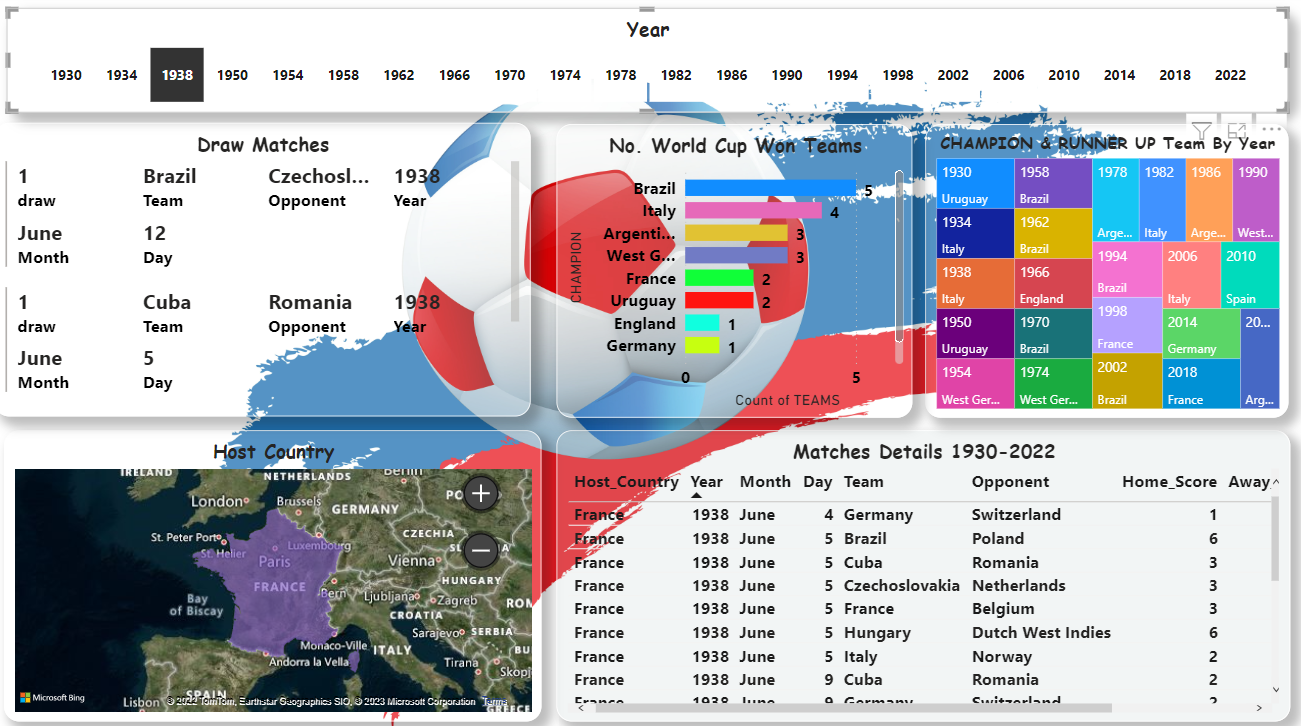

The page's visual inventory and layout, read from the dashboard file:
{"tool":"powerbi","page":{"name":"Page 1","canvas":[1280,720],"ordinal":0},"visuals":[{"type":"slicer","title":"Year","fields":{"Values":["Fifa 1930-2022.Year"]},"box":[12.2,13.4,1253,102.7],"z":0},{"type":"filledMap","title":"Host Country","fields":{"Category":["Fifa 1930-2022.country"]},"box":[9.8,426.6,525.6,284.8],"z":1000},{"type":"tableEx","title":"Matches Details 1930-2022","fields":{"Values":["Fifa 1930-2022.Country","Fifa 1930-2022.date.Variation.Date Hierarchy.Year","Fifa 1930-2022.date.Variation.Date Hierarchy.Month","Fifa 1930-2022.date.Variation.Date Hierarchy.Day","Fifa 1930-2022.team","Fifa 1930-2022.opponent","Fifa 1930-2022.Home_Score","Sum(Fifa 1930-2022.away_score)","Fifa 1930-2022.winning_team"]},"box":[550.1,426.6,717.6,284.8],"z":2000},{"type":"multiRowCard","title":"Draw Matches","fields":{"Values":["Fifa 1930-2022.draw","Fifa 1930-2022.Team","Fifa 1930-2022.Opponent","Fifa 1930-2022.Date.Variation.Date Hierarchy.Year","Fifa 1930-2022.Date.Variation.Date Hierarchy.Month","Fifa 1930-2022.Date.Variation.Date Hierarchy.Day"]},"box":[0,125.9,524.4,287.3],"z":3000},{"type":"treemap","title":"CHAMPION & RUNNER UP Team By Year","fields":{"Group":["FIFA - World Cup Summary.YEAR"],"Details":["FIFA - World Cup Summary.CHAMPION"],"Values":["CountNonNull(FIFA - World Cup Summary.GOALS SCORED)"]},"box":[911,127,355,287],"z":4000},{"type":"barChart","title":"No. World Cup Won Teams","fields":{"Category":["FIFA - World Cup Summary.CHAMPION"],"Y":["CountNonNull(FIFA - World Cup Summary.TEAMS)"]},"box":[550.1,127.1,348.4,287.3],"z":5000}]}

Visuals, with their boxes in screenshot pixels (x1, y1, x2, y2), scaled from the page's 1280x720 canvas onto the 1301x726 screenshot:
"Year" slicer: (12,14,1286,117)
"Host Country" filledMap: (10,430,544,717)
"Matches Details 1930-2022" tableEx: (559,430,1288,717)
"Draw Matches" multiRowCard: (0,127,533,417)
"CHAMPION & RUNNER UP Team By Year" treemap: (926,128,1287,417)
"No. World Cup Won Teams" barChart: (559,128,913,418)
